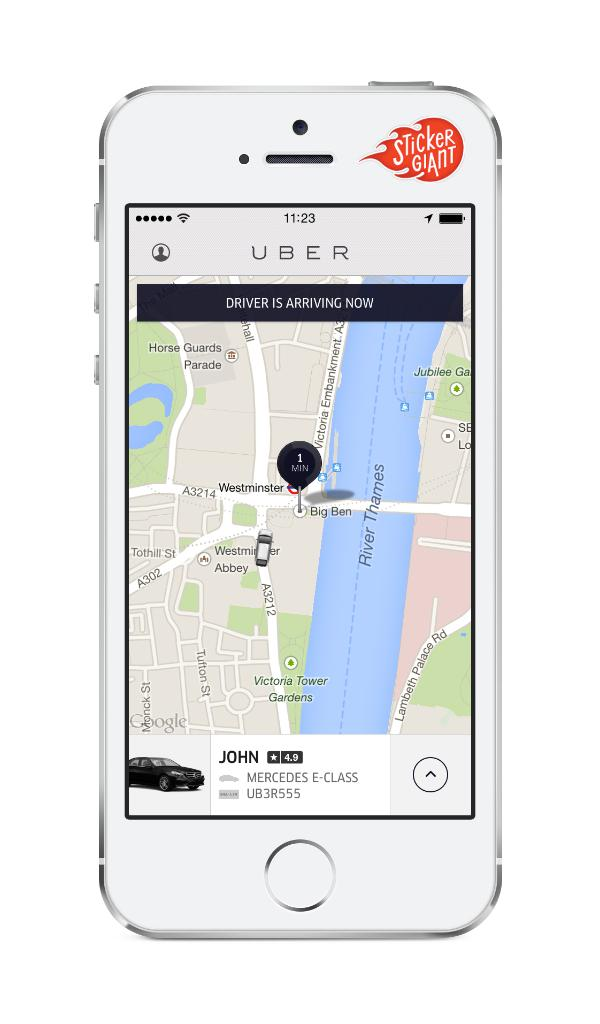Mobile-phone: (93, 80, 503, 945)
